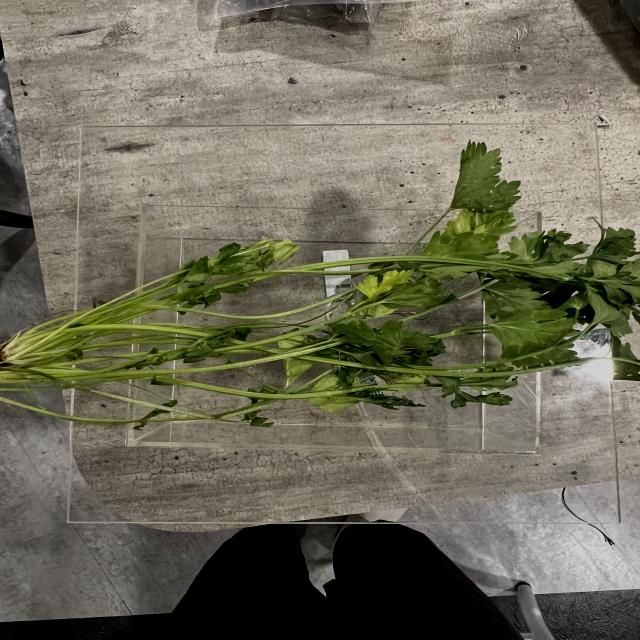chinese celery: (0, 143, 640, 429)
